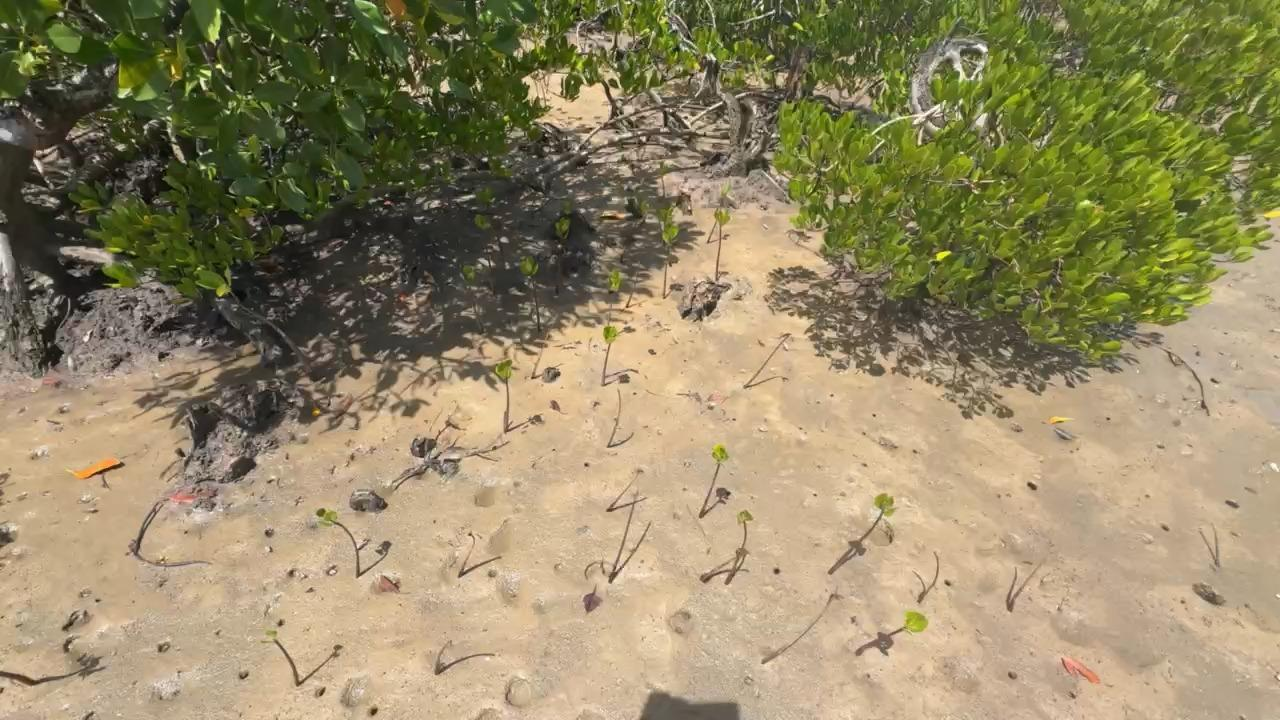Tree: (608, 489, 652, 583), (316, 508, 360, 577), (744, 333, 791, 386), (262, 629, 301, 686), (699, 444, 727, 518), (660, 204, 679, 299), (473, 214, 496, 292), (620, 196, 647, 261), (520, 255, 542, 331), (860, 494, 894, 541), (706, 178, 730, 243), (461, 266, 483, 332), (913, 550, 939, 603), (553, 218, 570, 295), (714, 208, 731, 279), (1007, 564, 1031, 611), (887, 611, 928, 638), (497, 359, 512, 430), (532, 321, 550, 378), (1198, 522, 1220, 566), (601, 326, 617, 385), (457, 532, 476, 578), (608, 269, 620, 328), (625, 262, 640, 307), (737, 510, 753, 549), (655, 160, 671, 199), (435, 639, 452, 674)
